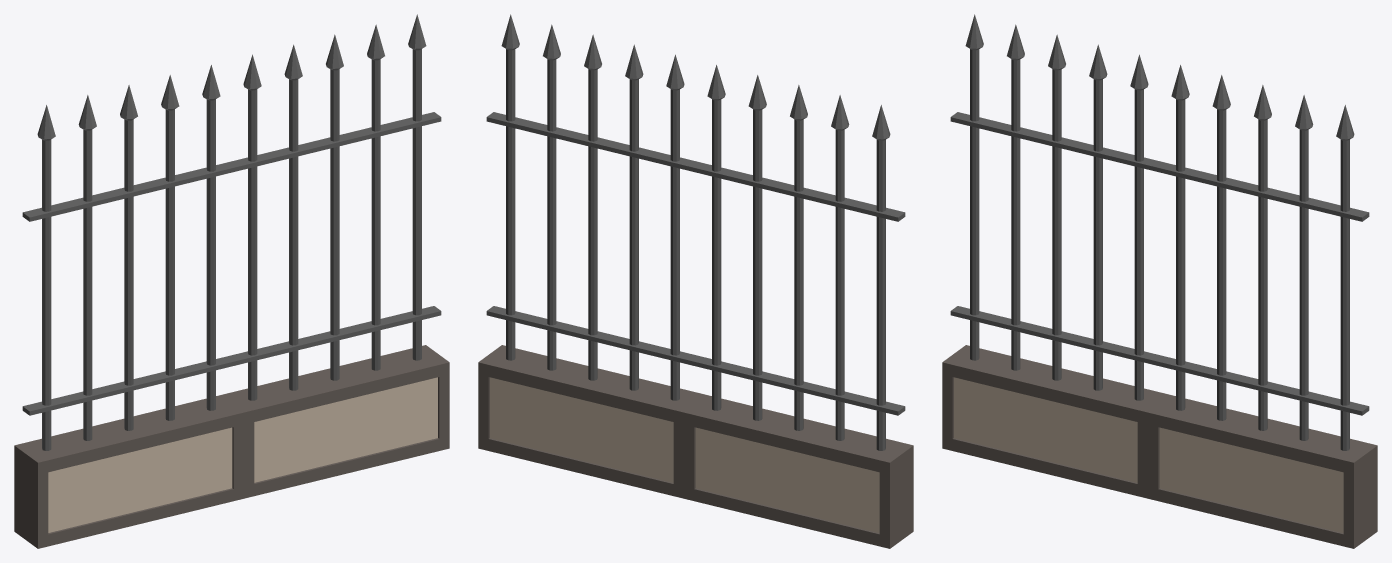
The model's file is Fence.fbx.
The picture shows the model from 3 angles, left to right: view 1: azimuth 30°, elevation 25°; view 2: azimuth 150°, elevation 25°; view 3: azimuth 330°, elevation 25°; orthographic projection.
Visible parts, largest first — view 1: Fence; view 2: Fence; view 3: Fence.
Boxes of the visible parts, x1,y1,x2,y2 form: Fence: (14,14,449,548); Fence: (478,14,913,548); Fence: (942,14,1377,548).
Size of the model in its own units: 2000 by 2000 by 200.
